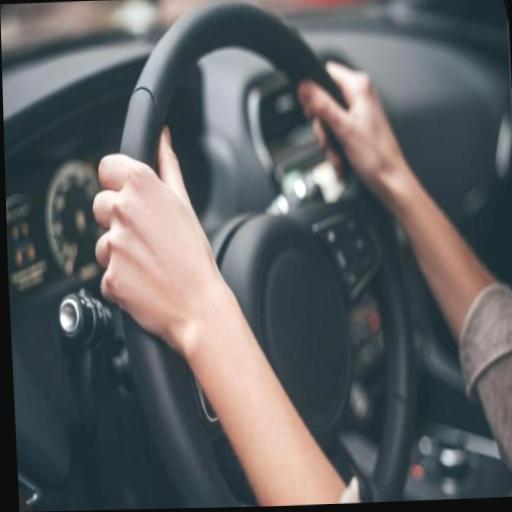Hands-on-the-Wheel: (79, 107, 257, 358), (291, 45, 428, 228)
